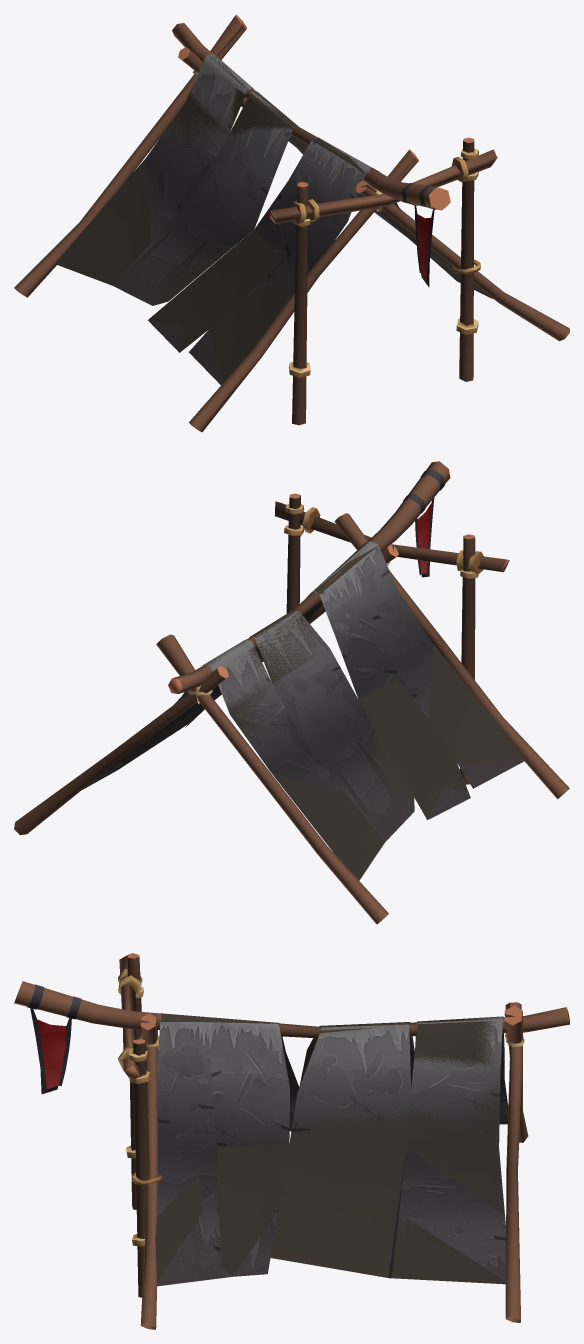
The model's file is Tent_1F.fbx.
3 renders of one model, top to bottom at view 1: azimuth 30°, elevation 25°; view 2: azimuth 150°, elevation 25°; view 3: azimuth 270°, elevation 25°, orthographic. The views are drawn at different scales.
Visible parts, largest first — view 1: Tent_1F; view 2: Tent_1F; view 3: Tent_1F.
Boxes of the visible parts, <box> form: Tent_1F: <box>14,14,569,432</box>; Tent_1F: <box>14,461,569,924</box>; Tent_1F: <box>14,953,569,1329</box>.
Bounding box in the file's own units: 499 × 322 × 602.
